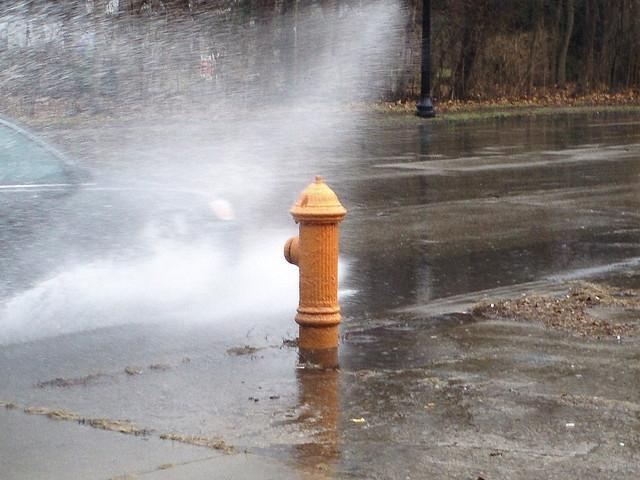car: (0, 118, 248, 298)
